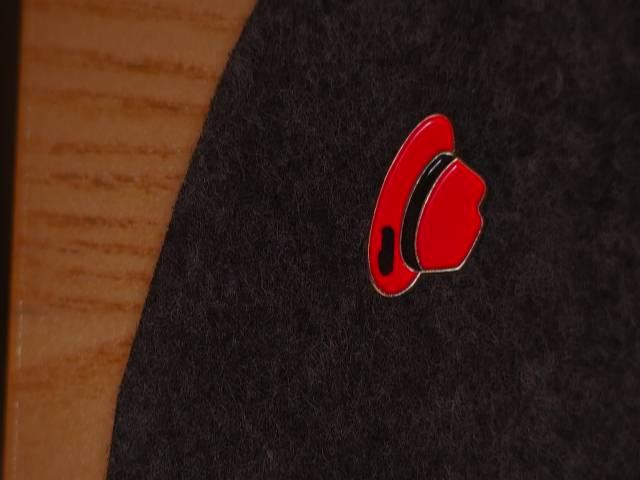Red-Hat: (335, 93, 529, 360)
Scratch: (364, 207, 410, 283)
